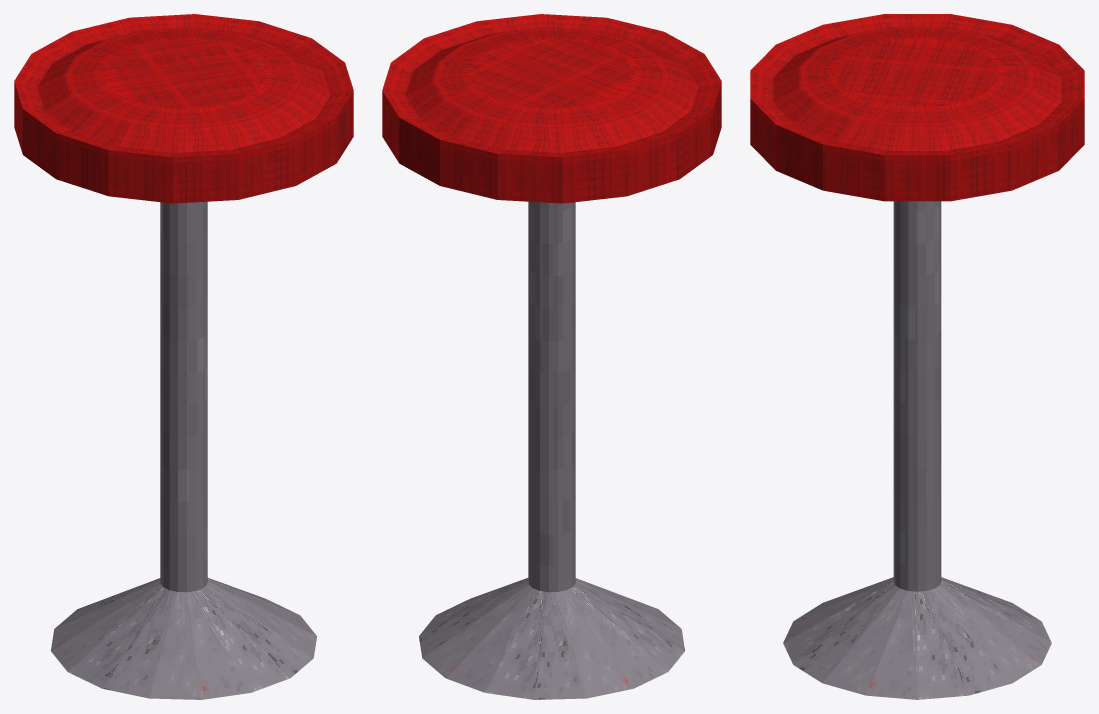
The model's file is Banquinho inferno.fbx.
The picture shows the model from 3 angles, left to right: view 1: azimuth 30°, elevation 25°; view 2: azimuth 150°, elevation 25°; view 3: azimuth 270°, elevation 25°; orthographic projection.
Parts seen in each view (by area): view 1: Banquinho; view 2: Banquinho; view 3: Banquinho.
Part boxes in pixels (box(x1,y1,x2,y2)): Banquinho: box(14, 14, 353, 699); Banquinho: box(382, 14, 721, 699); Banquinho: box(750, 14, 1084, 699).
Bounding box in the file's own units: 39.28 × 73.93 × 39.28.
Materials: 1 (1 with a texture image).
